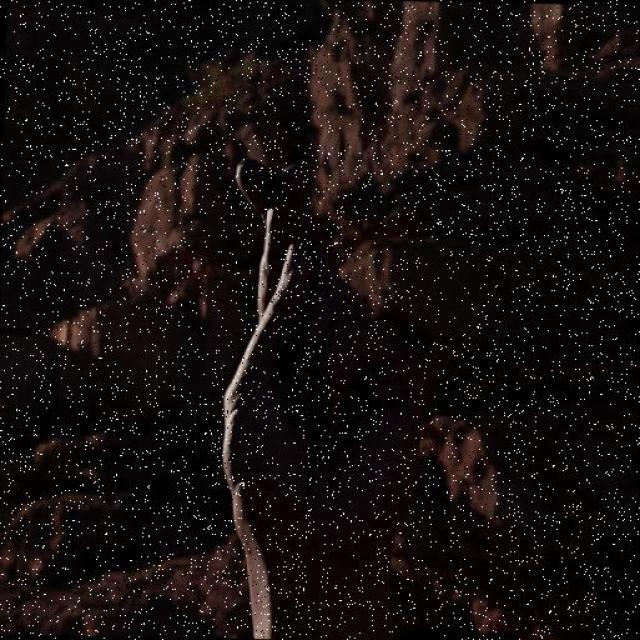R: (208, 156, 431, 558)
